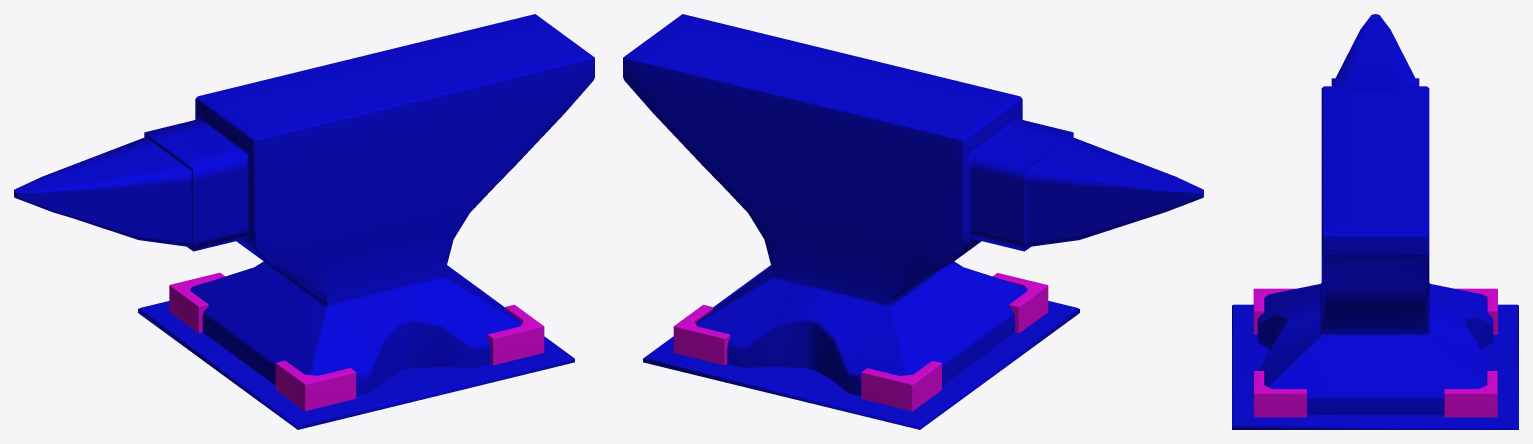
The model's file is Anvil.fbx.
The picture shows the model from 3 angles, left to right: view 1: azimuth 30°, elevation 25°; view 2: azimuth 150°, elevation 25°; view 3: azimuth 270°, elevation 25°; orthographic projection. The views are drawn at different scales.
Visible parts, largest first — view 1: Anvil; view 2: Anvil; view 3: Anvil.
Boxes of the visible parts, <box> form: Anvil: <box>14,14,594,429</box>; Anvil: <box>623,14,1203,429</box>; Anvil: <box>1232,14,1518,429</box>.
Size of the model in its own units: 7.31 by 3.19 by 3.67.
